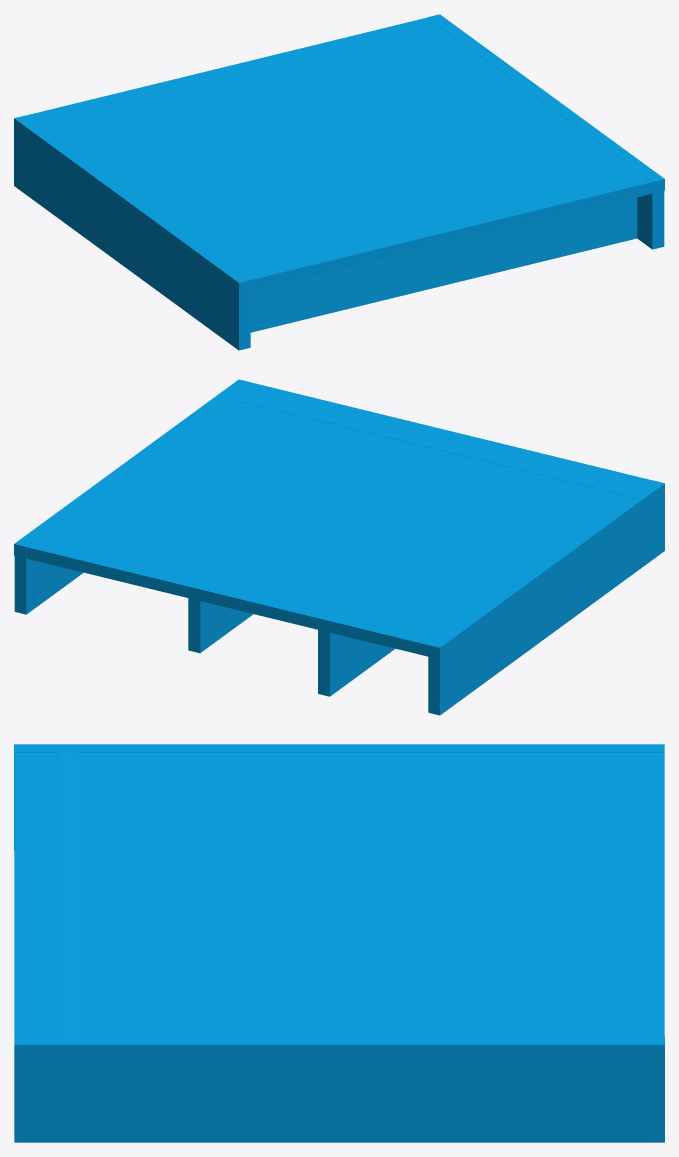
Rendered from LaserRoom.fbx.
3 renders of one model, top to bottom at view 1: azimuth 30°, elevation 25°; view 2: azimuth 150°, elevation 25°; view 3: azimuth 270°, elevation 25°, orthographic. The views are drawn at different scales.
Parts seen in each view (by area): view 1: root (×4); view 2: root (×6); view 3: root (×4).
Boxes of the visible parts, box(x1,y1,x2,y2) form: root (×4): box(14, 14, 664, 350); root (×6): box(14, 379, 664, 715); root (×4): box(14, 744, 664, 1142).
Bounding box in the file's own units: 3.05 × 0.518 × 2.79.
Materials: 2 (1 with a texture image).
